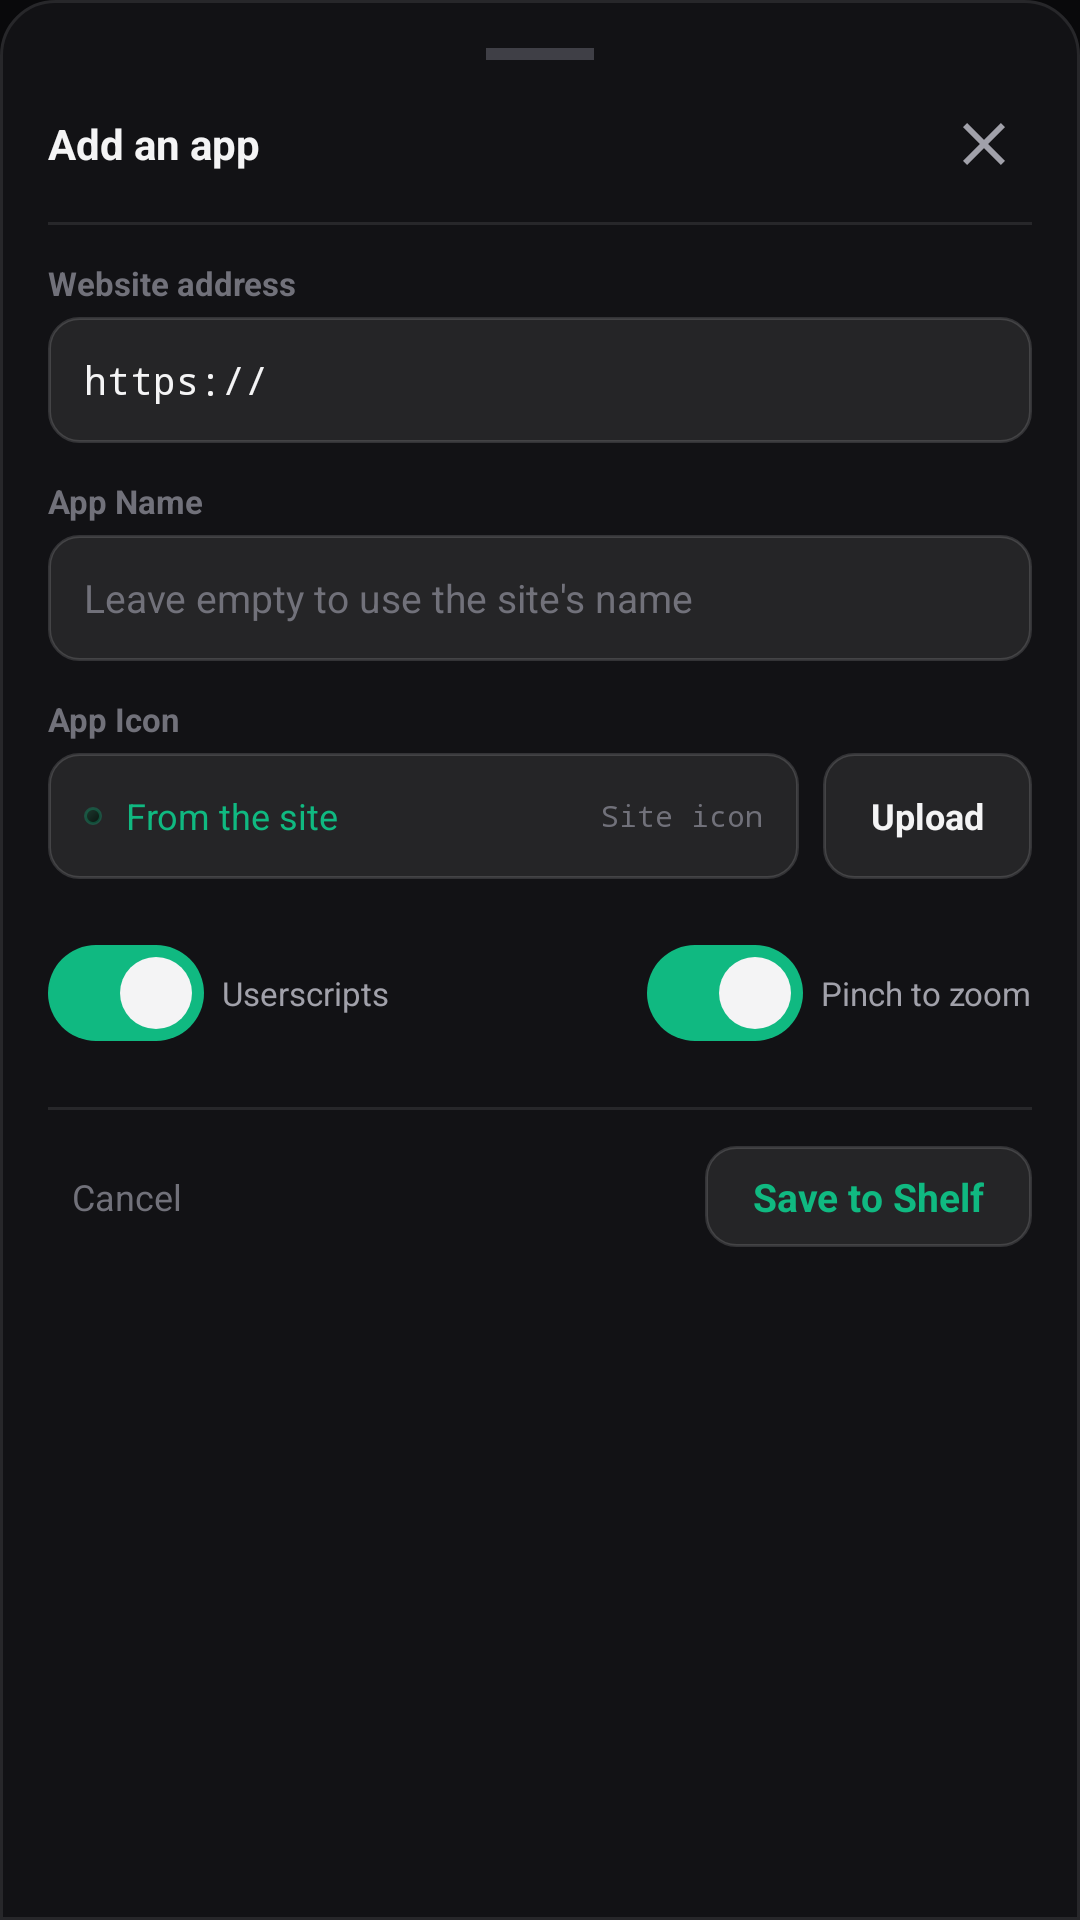

Screen size 1080w x 1920h. Icon name, then its center in pixels as (x=x, y=y):
Close: (x=984, y=144)
